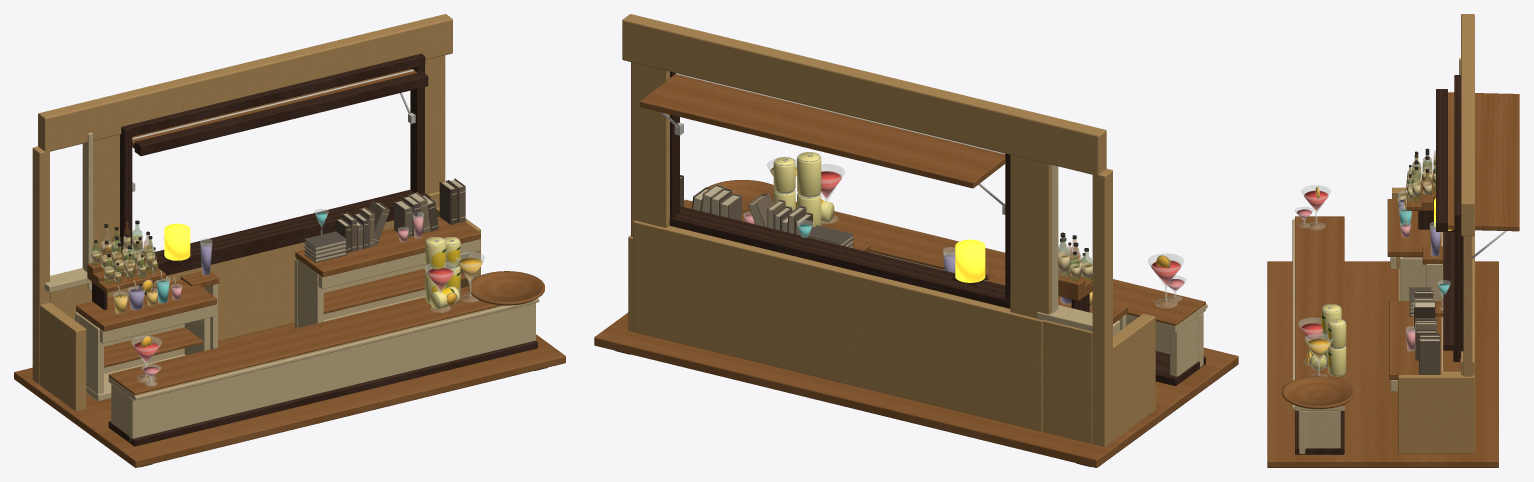
The model's file is seaside_bar_complete_textured.glb.
The picture shows the model from 3 angles, left to right: view 1: azimuth 30°, elevation 25°; view 2: azimuth 150°, elevation 25°; view 3: azimuth 270°, elevation 25°; orthographic projection. The views are drawn at different scales.
Visible parts, largest first — view 1: 服务吧台_前立面, Top_visible_wall_strip, 推断_连续地面平台, Foreground_wood_top, 海侧墙_下部补齐, Awning_front_heavy_rail, 短侧墙_左侧墙角, Window_header, 服务吧台_底板, Window_sill, 左侧矩形开口_外柱, Right_prep_counter_top (+27 smaller); view 2: 海侧墙_下部补齐, Top_visible_wall_strip, 推断_连续地面平台, Lifted_wood_awning_panel, Window_sill, Left_visible_wall_strip, Foreground_wood_top, 左侧矩形开口_下墙, 左侧矩形开口_外柱, Right_visible_wall_strip, 短侧墙_左侧墙角, 服务吧台_支撑肋 (+10 smaller); view 3: 推断_连续地面平台, Lifted_wood_awning_panel, 短侧墙_右侧墙角, Foreground_wood_top, Top_visible_wall_strip, Right_prep_counter_top, Round_serving_tray, Awning_front_heavy_rail, Left_prep_counter_top, Right_visible_wall_strip, Window_sill, Window_side_jamb.001 (+21 smaller).
Part boxes in pixels (<box>): 服务吧台_前立面: <box>129,303,535,441</box>; Top_visible_wall_strip: <box>38,14,452,151</box>; 推断_连续地面平台: <box>14,323,565,467</box>; Foreground_wood_top: <box>108,286,502,395</box>; 海侧墙_下部补齐: <box>107,191,439,341</box>; Awning_front_heavy_rail: <box>134,72,428,156</box>; 短侧墙_左侧墙角: <box>40,302,86,411</box>; Window_header: <box>120,53,425,138</box>; 服务吧台_底板: <box>108,340,537,446</box>; Window_sill: <box>153,189,430,269</box>; 左侧矩形开口_外柱: <box>32,146,49,384</box>; Right_prep_counter_top: <box>295,216,480,277</box>; 海侧墙_下部补齐: <box>633,220,1042,431</box>; Top_visible_wall_strip: <box>622,14,1106,174</box>; 推断_连续地面平台: <box>594,312,1238,467</box>; Lifted_wood_awning_panel: <box>640,74,1005,188</box>; Window_sill: <box>669,206,1010,308</box>; Left_visible_wall_strip: <box>1010,154,1051,318</box>; Foreground_wood_top: <box>795,201,1205,326</box>; 左侧矩形开口_下墙: <box>1042,320,1092,443</box>; 左侧矩形开口_外柱: <box>1092,168,1112,446</box>; Right_visible_wall_strip: <box>631,62,669,236</box>; 短侧墙_左侧墙角: <box>1113,313,1155,440</box>; 服务吧台_支撑肋: <box>1170,316,1198,376</box>; 推断_连续地面平台: <box>1267,261,1498,467</box>; Lifted_wood_awning_panel: <box>1448,92,1519,231</box>; 短侧墙_右侧墙角: <box>1398,371,1474,453</box>; Foreground_wood_top: <box>1295,216,1344,405</box>; Top_visible_wall_strip: <box>1461,14,1474,236</box>; Right_prep_counter_top: <box>1389,301,1441,379</box>; Round_serving_tray: <box>1282,376,1354,409</box>; Awning_front_heavy_rail: <box>1436,89,1447,231</box>; Left_prep_counter_top: <box>1387,199,1441,256</box>; Right_visible_wall_strip: <box>1463,236,1472,376</box>; Window_sill: <box>1443,232,1454,350</box>; Window_side_jamb.001: <box>1454,215,1463,358</box>.
Size of the model in its own units: 9.51 by 5.85 by 5.07.
25 materials, 7 textured.
